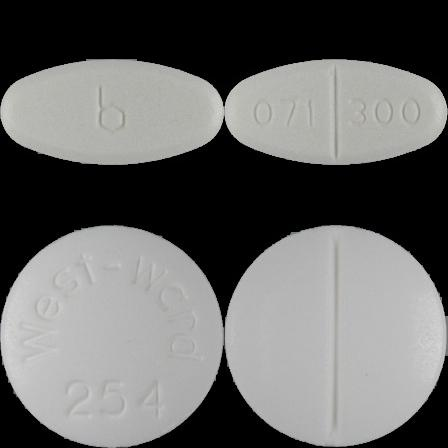16590-984: (0, 0, 224, 224)
